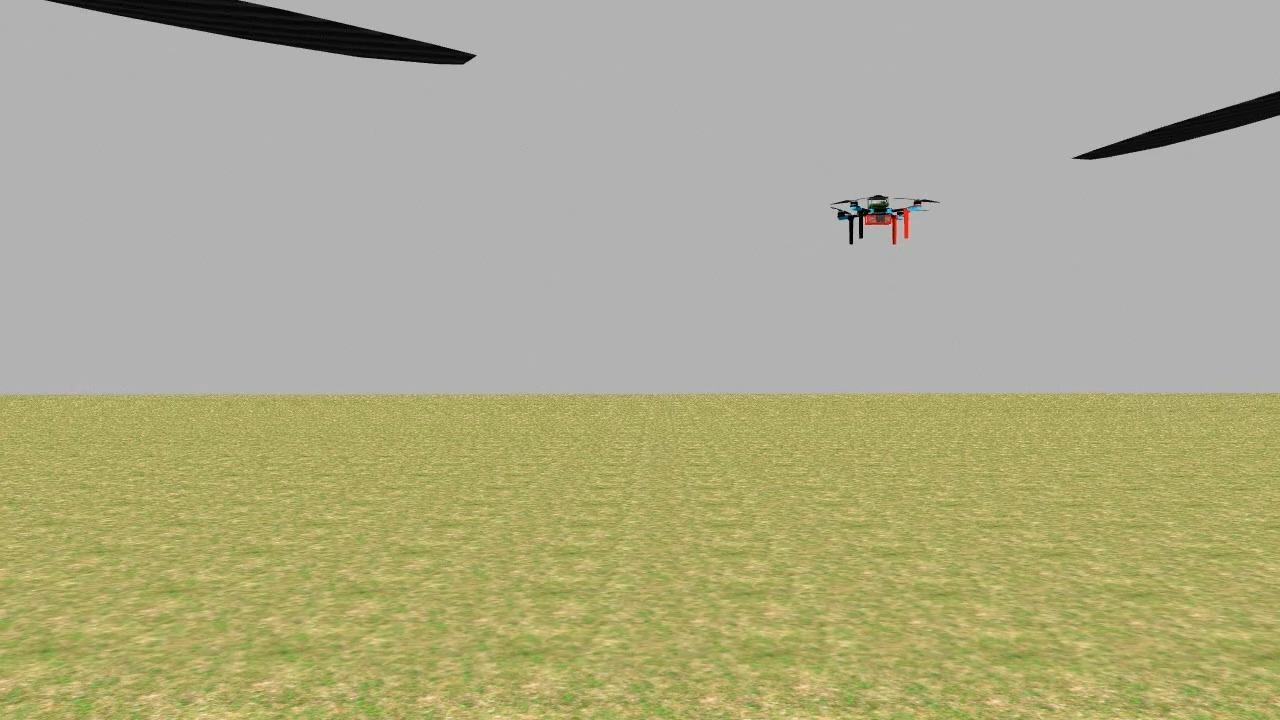UAV: (829, 184, 935, 252)
